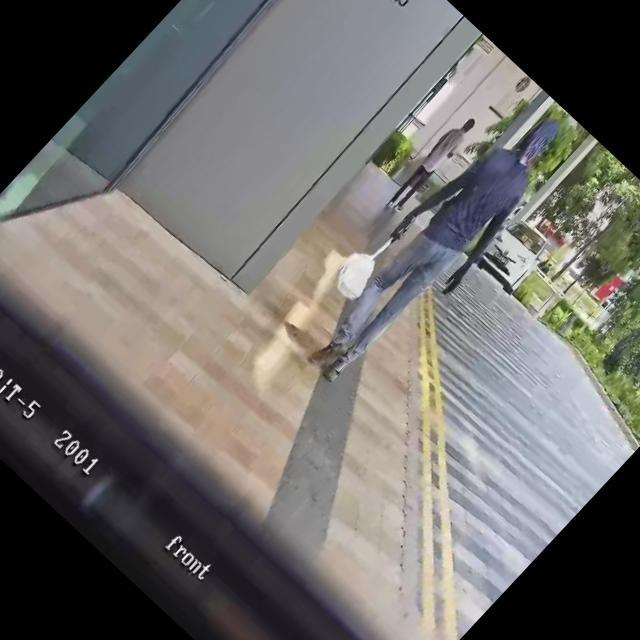person: (286, 88, 587, 402), (381, 111, 482, 217)
